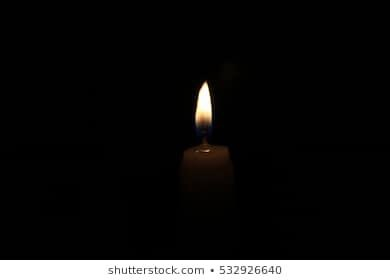fire: (192, 77, 215, 144)
